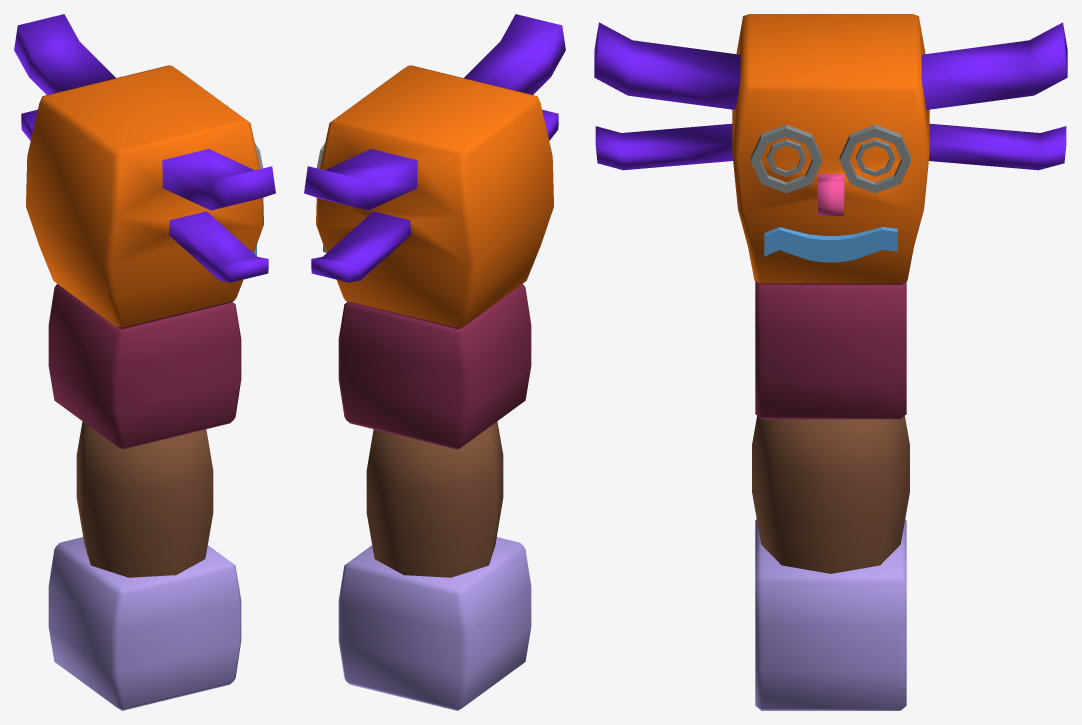
The model's file is totem.fbx.
3 views of the same model, side by side, from view 1: azimuth 30°, elevation 25°; view 2: azimuth 150°, elevation 25°; view 3: azimuth 270°, elevation 25° (orthographic). The views are drawn at different scales.
Visible parts, largest first — view 1: totem; view 2: totem; view 3: totem.
Part boxes in pixels (bbox=[...]): totem: bbox=[14, 14, 275, 710]; totem: bbox=[304, 14, 565, 710]; totem: bbox=[594, 14, 1067, 710].
Size of the model in its own units: 87.66 by 261 by 173.
